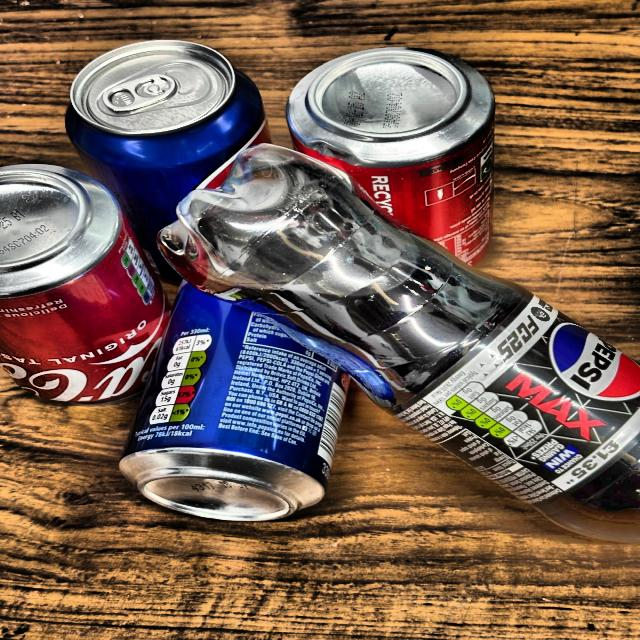coke-can: (146, 268, 346, 538), (301, 44, 496, 264), (11, 160, 157, 406)
pepsi-bottle: (184, 132, 640, 556)
pepsi-can: (69, 50, 272, 230)
